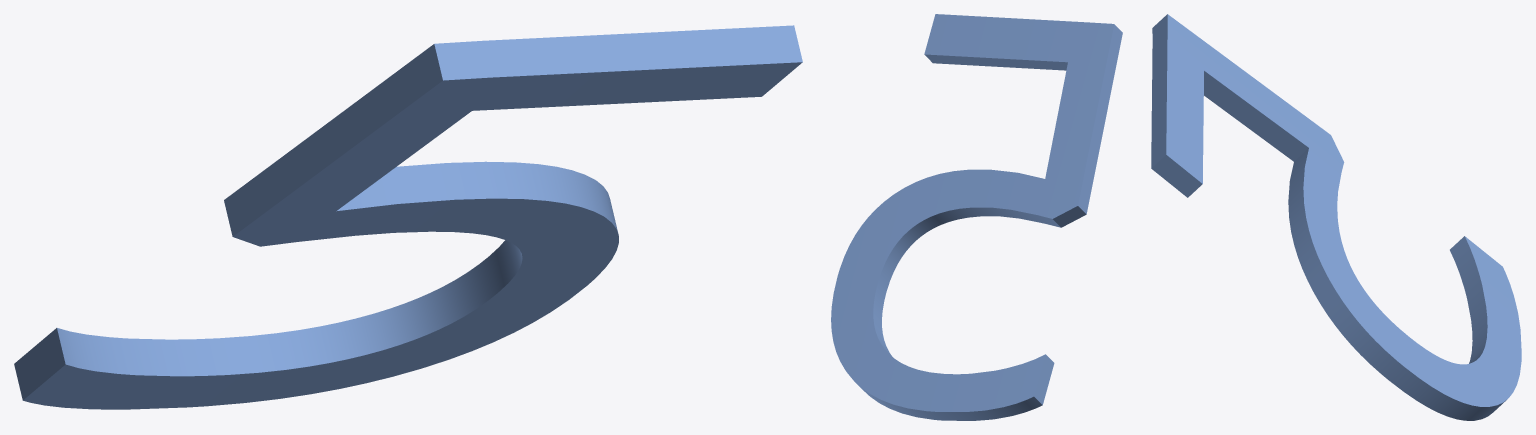
The model's file is New_Number_5.gltf.
3 renders of one model, left to right at view 1: azimuth 30°, elevation 25°; view 2: azimuth 150°, elevation 25°; view 3: azimuth 270°, elevation 25°, orthographic. The views are drawn at different scales.
Parts seen in each view (by area): view 1: Part 248; view 2: Part 248; view 3: Part 248.
Part boxes in pixels (bbox=[...]): Part 248: bbox=[14, 25, 802, 409]; Part 248: bbox=[831, 14, 1122, 420]; Part 248: bbox=[1151, 14, 1521, 420].
Bounding box in the file's own units: 0.00369 × 0.00429 × 0.00416.
